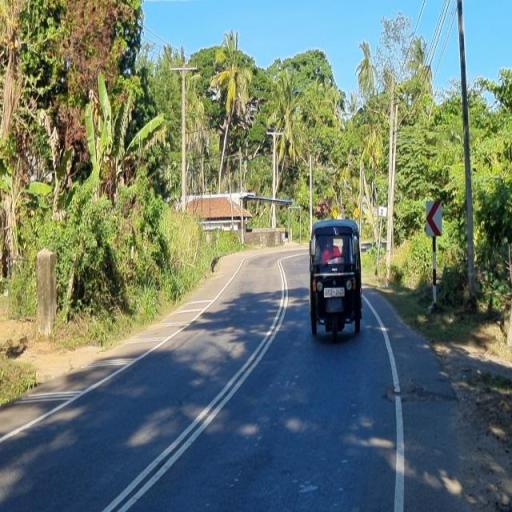double_white_line: (104, 252, 293, 511)
